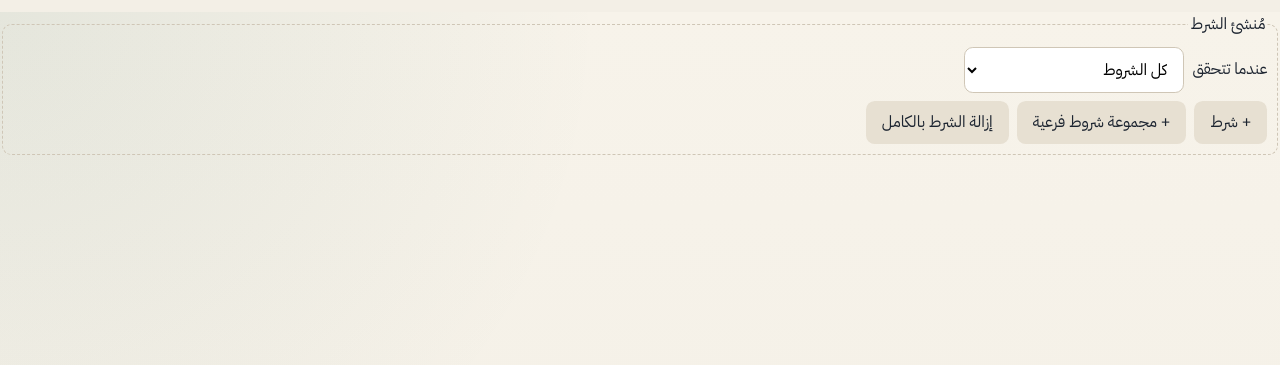
ConditionBuilder › supports nested condition groups up to the depth limit
The width and height of the screenshot is (1280, 365).
Click the button "+ مجموعة شروط فرعية".
click(1102, 122)  # box [1017,101,1186,144]
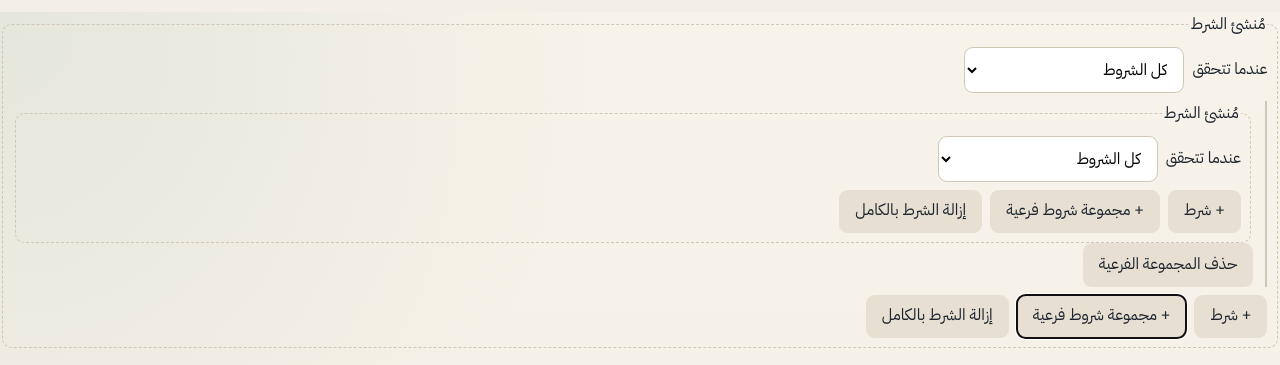
Expected: the number of elements "مُنشئ الشرط" is 2
